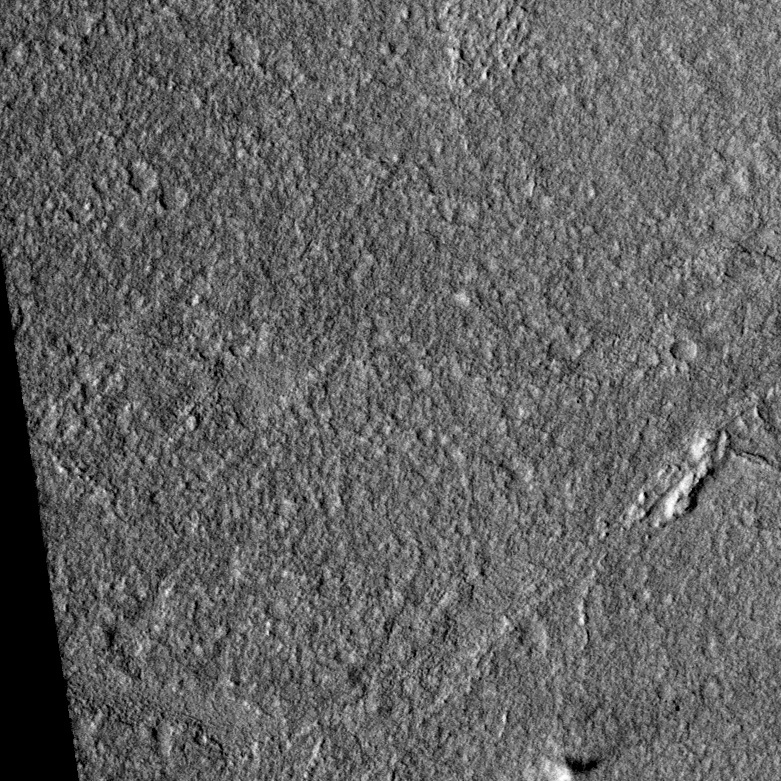dust_devil: (544, 728, 643, 781)
